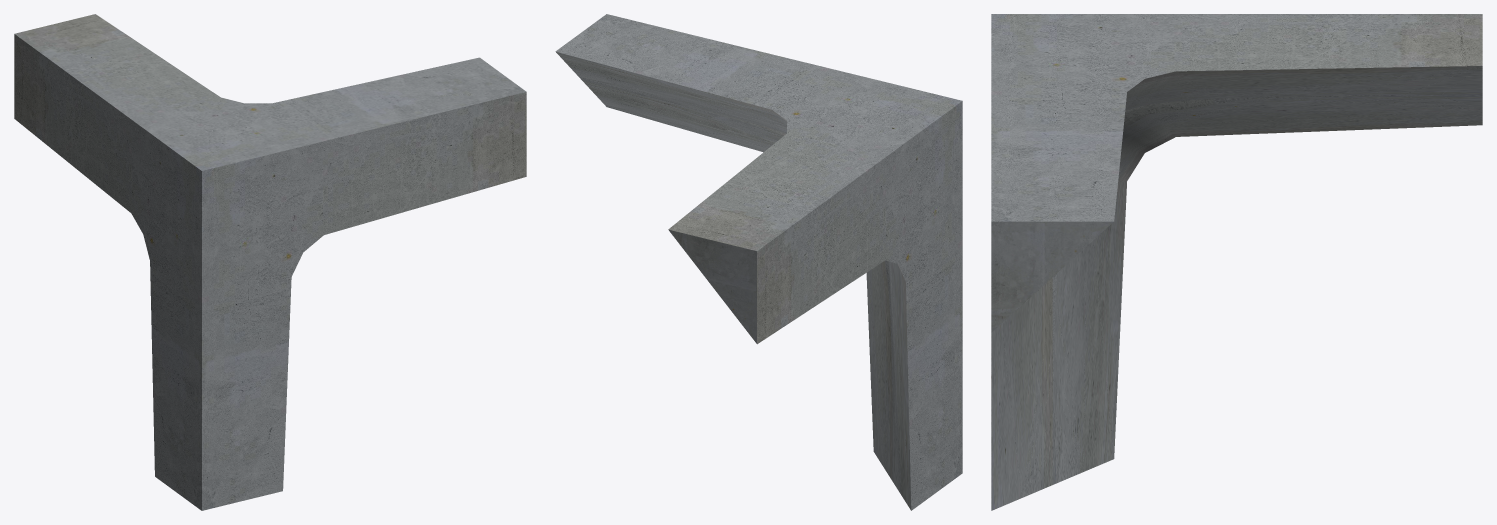
Rendered from module_D1.fbx.
3 views of the same model, side by side, from view 1: azimuth 30°, elevation 25°; view 2: azimuth 150°, elevation 25°; view 3: azimuth 270°, elevation 25° (orthographic). The views are drawn at different scales.
Visible parts, largest first — view 1: modules; view 2: modules; view 3: modules.
Part boxes in pixels (x1=…): modules: x1=14, y1=14, x2=526, y2=510; modules: x1=555, y1=14, x2=962, y2=510; modules: x1=991, y1=14, x2=1482, y2=510.
Size of the model in its own units: 1000 by 1000 by 1000.
1 material, 1 textured.
